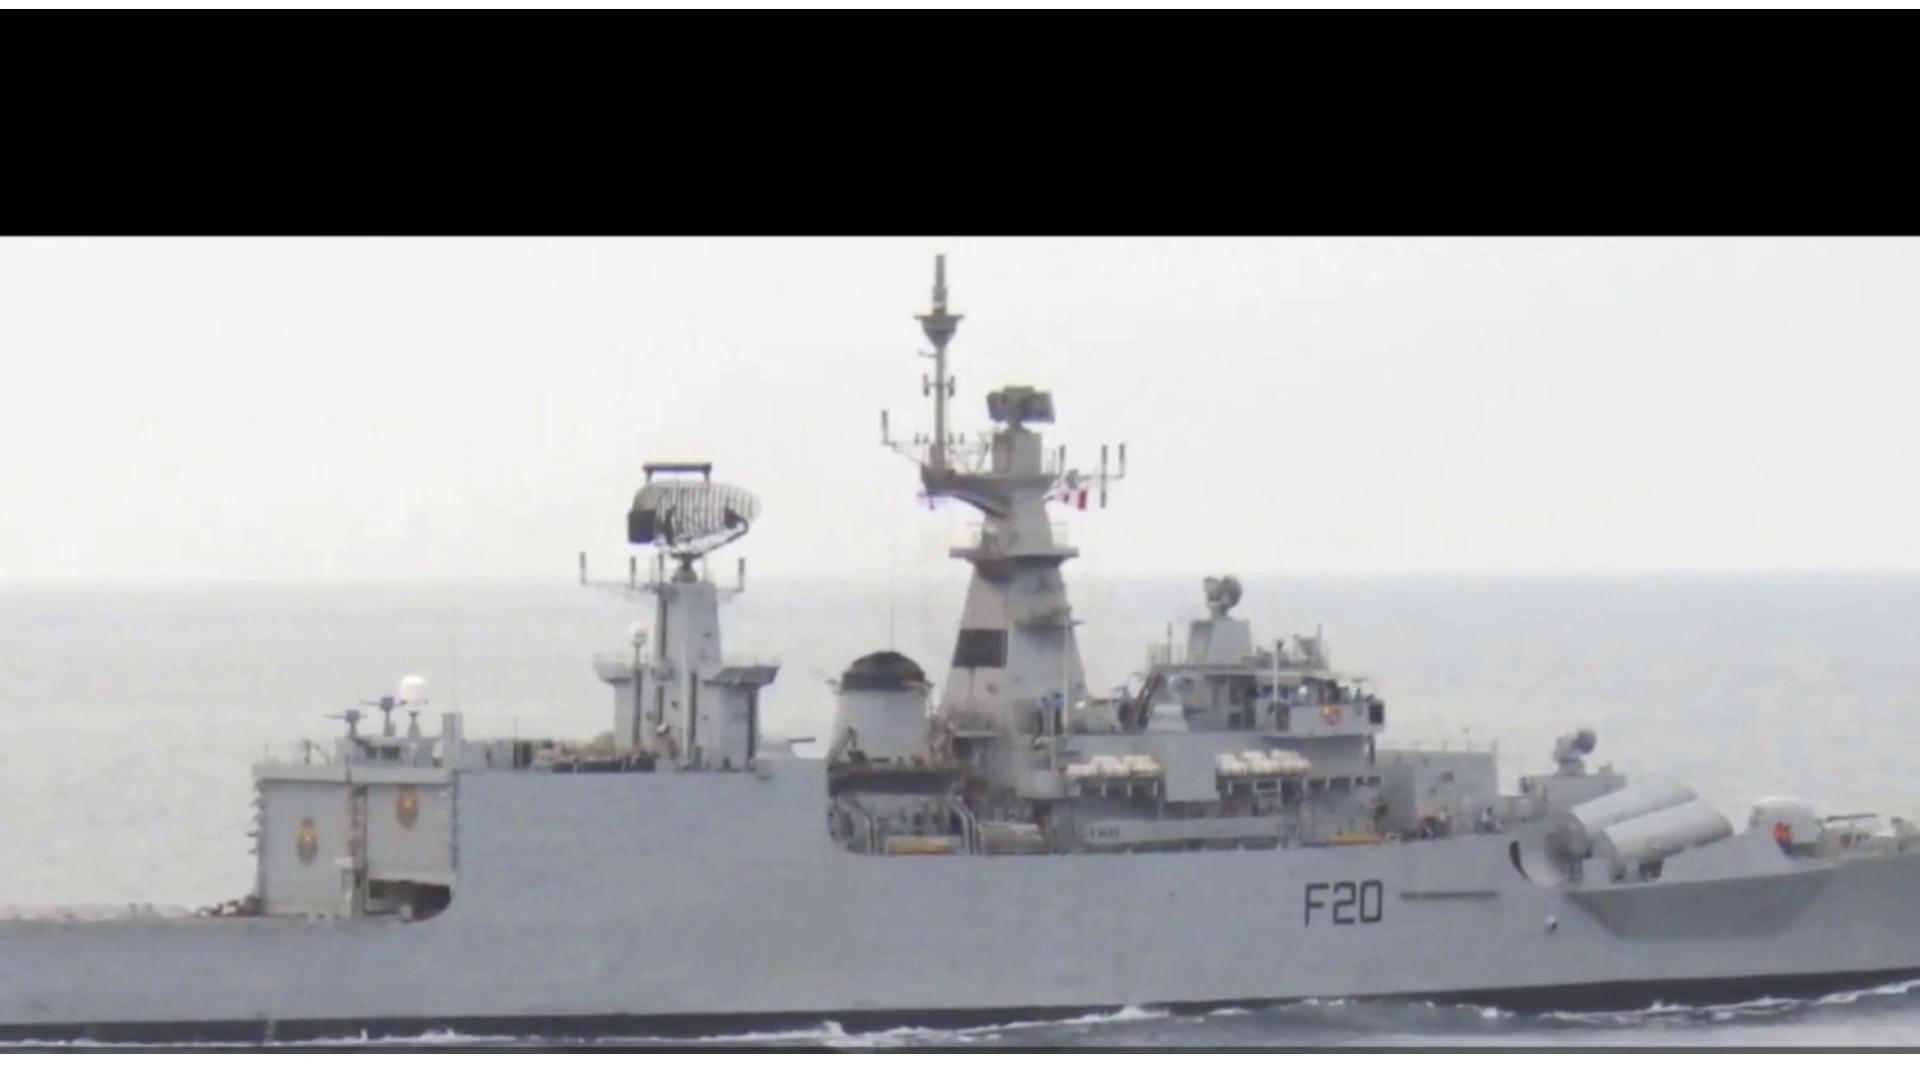OCR: (1282, 870, 1386, 939)
